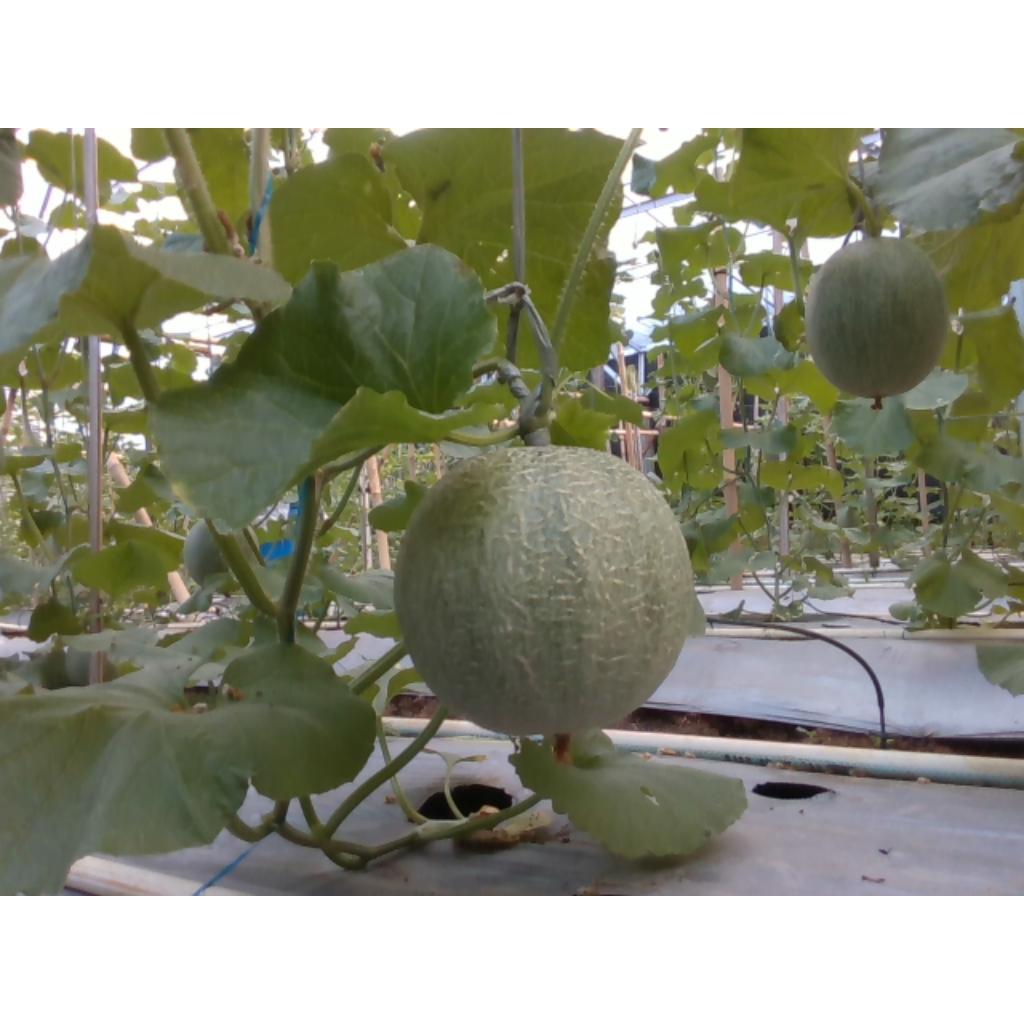melon: (395, 448, 694, 735)
